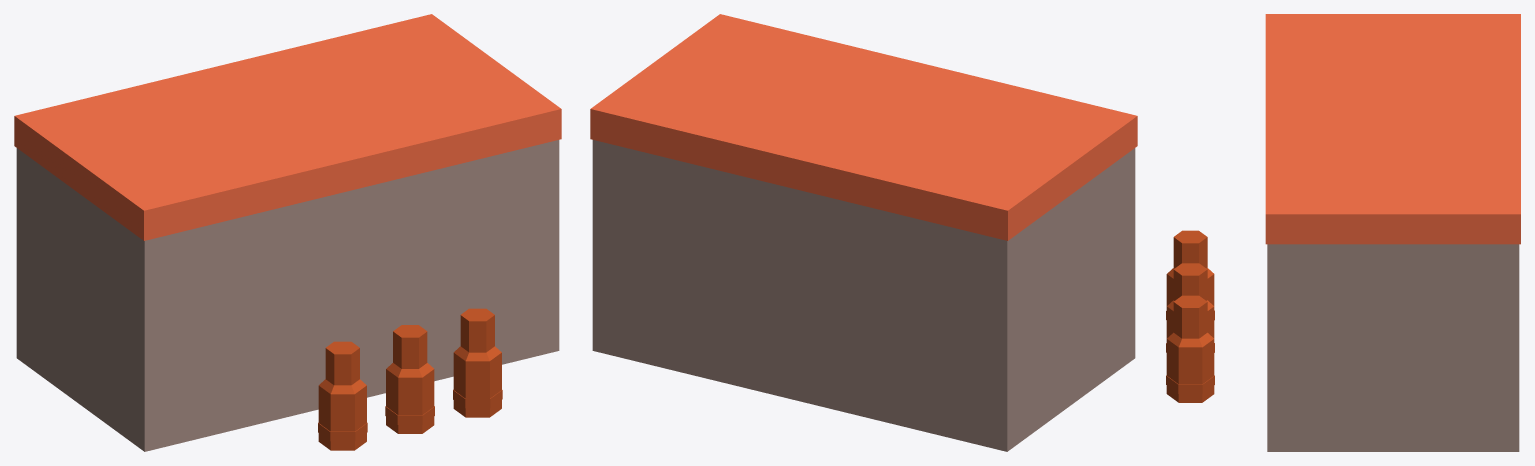
File: ce_ammo2_flare_chem_c.obj
The picture shows the model from 3 angles, left to right: view 1: azimuth 30°, elevation 25°; view 2: azimuth 150°, elevation 25°; view 3: azimuth 270°, elevation 25°; orthographic projection.
Parts seen in each view (by area): view 1: ce_ammo2_flare_chem_c_0, ce_ammo2_flare_chem_c_1, ce_ammo2_flare_chem_c_9, ce_ammo2_flare_chem_c_4, ce_ammo2_flare_chem_c_14, ce_ammo2_flare_chem_c_6, ce_ammo2_flare_chem_c_16, ce_ammo2_flare_chem_c_11, ce_ammo2_flare_chem_c_3; view 2: ce_ammo2_flare_chem_c_0, ce_ammo2_flare_chem_c_1; view 3: ce_ammo2_flare_chem_c_1, ce_ammo2_flare_chem_c_0, ce_ammo2_flare_chem_c_14, ce_ammo2_flare_chem_c_16, ce_ammo2_flare_chem_c_6, ce_ammo2_flare_chem_c_11, ce_ammo2_flare_chem_c_13, ce_ammo2_flare_chem_c_12, ce_ammo2_flare_chem_c_15, ce_ammo2_flare_chem_c_9, ce_ammo2_flare_chem_c_4.
Boxes of the visible parts, x1,y1,x2,y2 form: ce_ammo2_flare_chem_c_0: (16, 140, 559, 451); ce_ammo2_flare_chem_c_1: (14, 14, 561, 240); ce_ammo2_flare_chem_c_9: (386, 369, 434, 415); ce_ammo2_flare_chem_c_4: (318, 385, 366, 431); ce_ammo2_flare_chem_c_14: (453, 352, 501, 398); ce_ammo2_flare_chem_c_6: (325, 341, 359, 385); ce_ammo2_flare_chem_c_16: (460, 308, 494, 352); ce_ammo2_flare_chem_c_11: (393, 325, 427, 368); ce_ammo2_flare_chem_c_3: (318, 422, 367, 441); ce_ammo2_flare_chem_c_0: (592, 140, 1135, 451); ce_ammo2_flare_chem_c_1: (590, 14, 1137, 240); ce_ammo2_flare_chem_c_1: (1265, 14, 1520, 244); ce_ammo2_flare_chem_c_0: (1267, 244, 1519, 451); ce_ammo2_flare_chem_c_14: (1166, 339, 1214, 384); ce_ammo2_flare_chem_c_16: (1173, 295, 1207, 338); ce_ammo2_flare_chem_c_6: (1173, 230, 1207, 268); ce_ammo2_flare_chem_c_11: (1173, 263, 1207, 300); ce_ammo2_flare_chem_c_13: (1166, 375, 1214, 393); ce_ammo2_flare_chem_c_12: (1166, 385, 1214, 402); ce_ammo2_flare_chem_c_15: (1167, 332, 1213, 347); ce_ammo2_flare_chem_c_9: (1166, 306, 1214, 338); ce_ammo2_flare_chem_c_4: (1166, 274, 1214, 305).
Bounding box in the file's own units: 0.866 × 0.48 × 0.6476.
